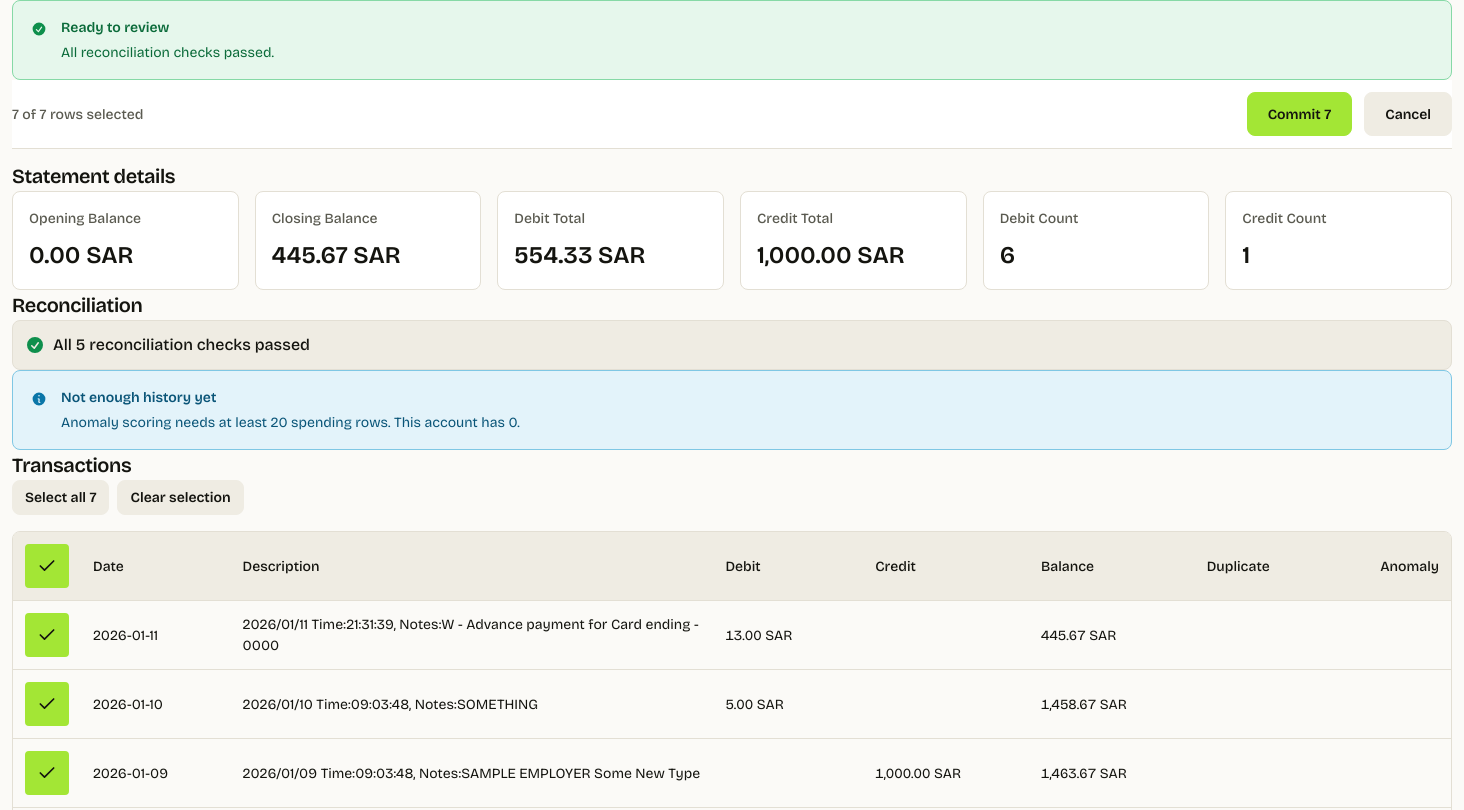
Test: ReviewScreen › shows error message on commit failure
Click the button "Commit 7": [1299, 114] box [1247,92,1352,136]
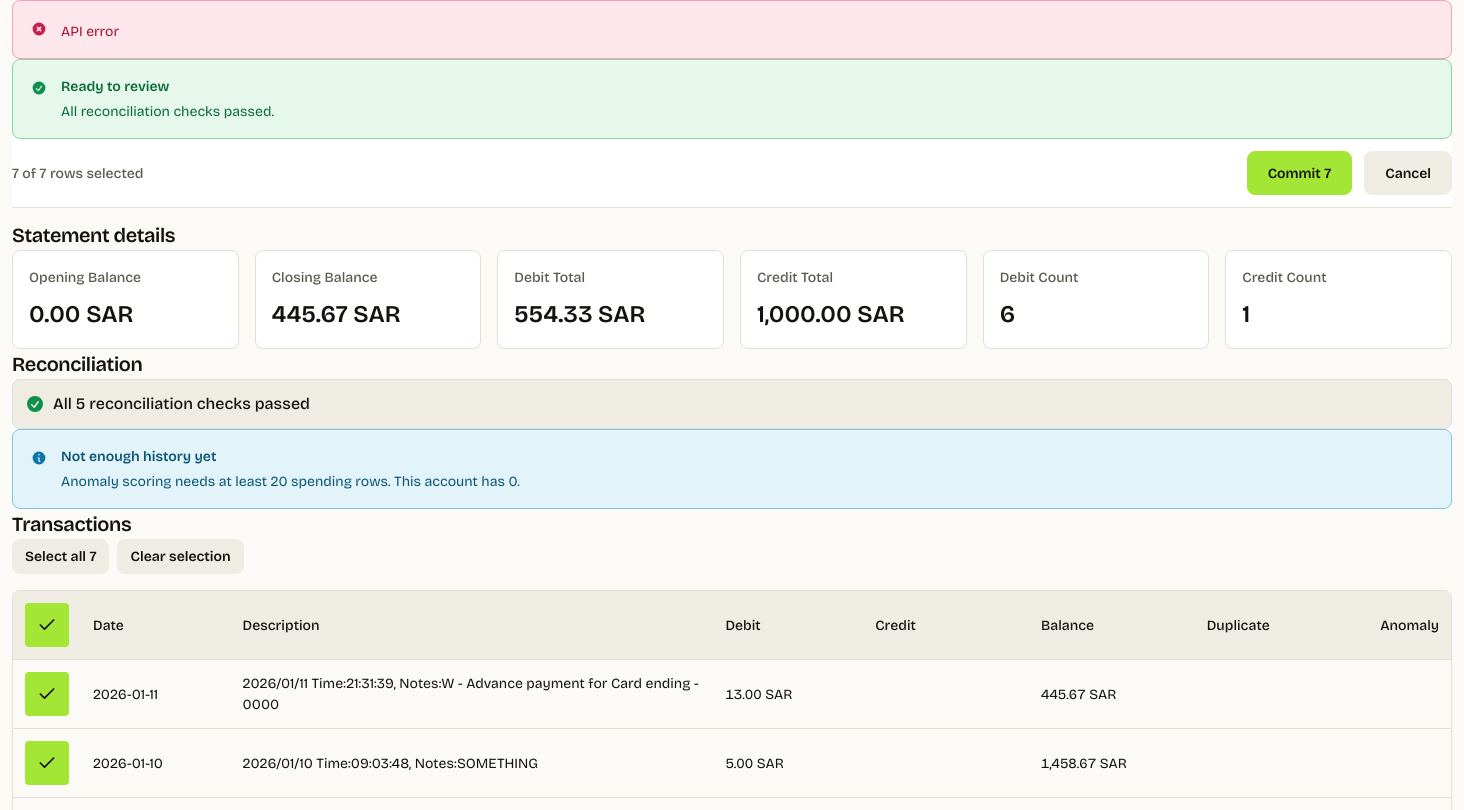
Result: the text "API error" is shown at [61,23,119,40]
